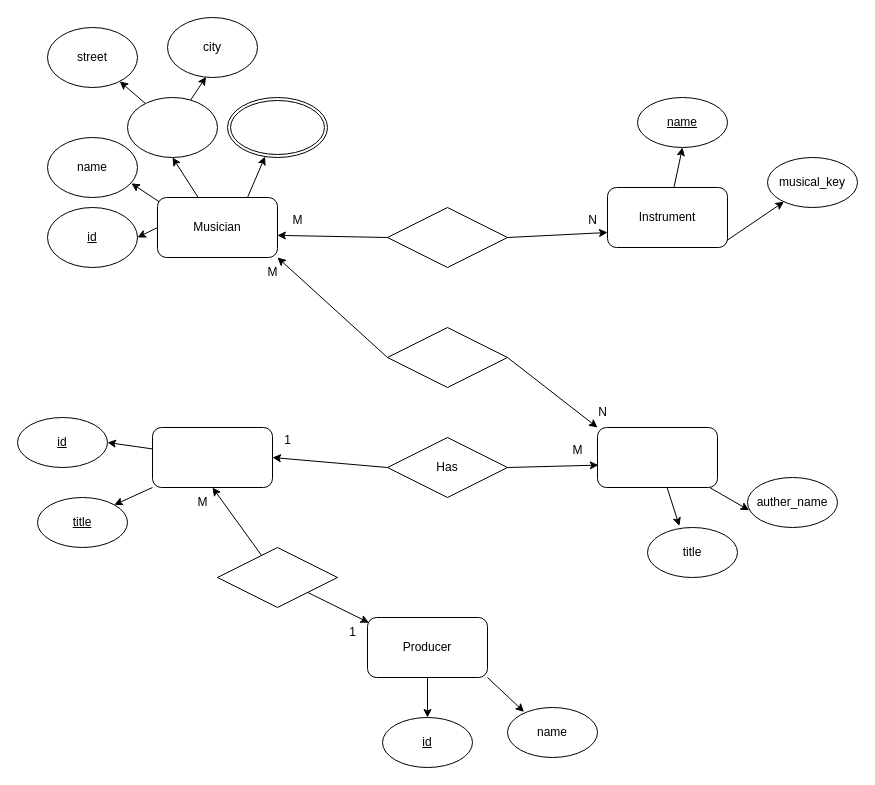
Some shapes in this 875 by 785 pixel diagram are drawn without their labels. The shapes that lost their labels are listed below. From the top down, each one's centre as x and y in pixels, then its label:
(x=172, y=127): adress
(x=277, y=127): phone
(x=447, y=237): Plays
(x=447, y=357): Make
(x=212, y=457): Album
(x=657, y=457): Song
(x=277, y=577): Produce
